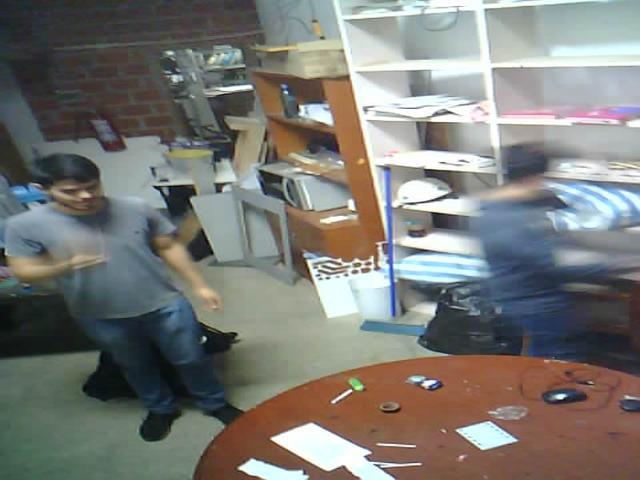person: (2, 129, 270, 445), (462, 118, 640, 393)
